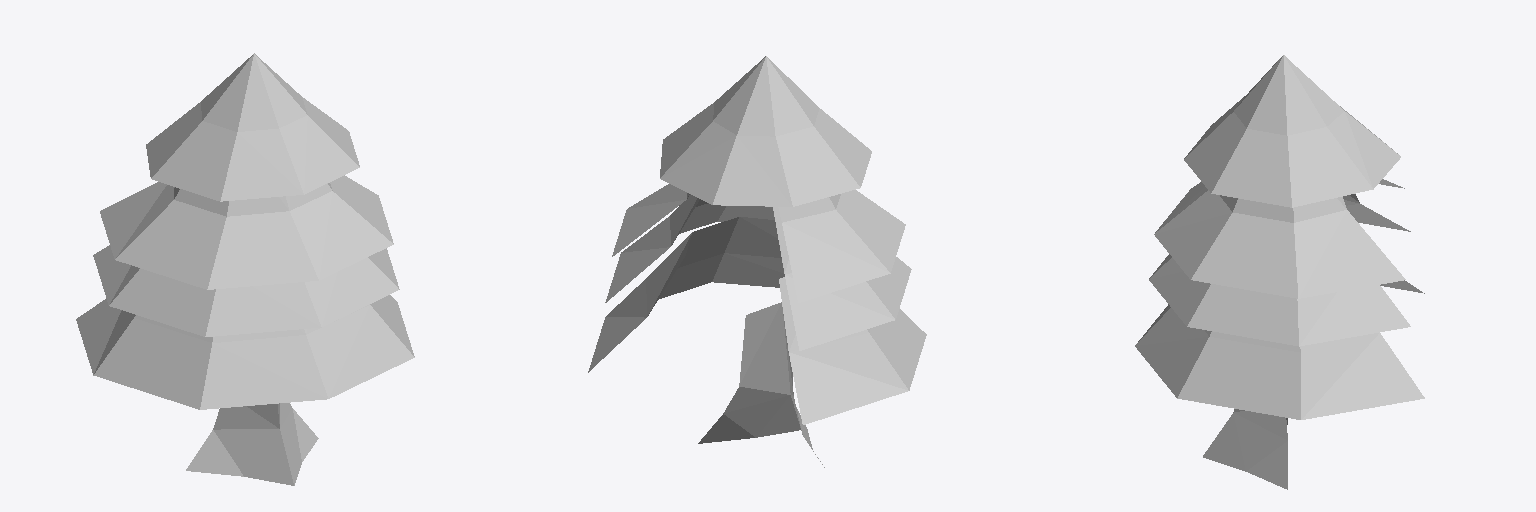
File: ORAS_Evergreen.obj
3 renders of one model, left to right at view 1: azimuth 30°, elevation 25°; view 2: azimuth 150°, elevation 25°; view 3: azimuth 270°, elevation 25°, orthographic.
Parts seen in each view (by area): view 1: trees_top, trees_bottom; view 2: trees_top, trees_bottom; view 3: trees_top, trees_bottom.
Part boxes in pixels (bbox=[...]): trees_top: bbox=[76, 53, 414, 409]; trees_bottom: bbox=[186, 403, 318, 485]; trees_top: bbox=[588, 56, 926, 424]; trees_bottom: bbox=[698, 302, 824, 467]; trees_top: bbox=[1135, 55, 1424, 419]; trees_bottom: bbox=[1203, 409, 1287, 489].
Size of the model in its own units: 74.34 by 94.17 by 61.56.